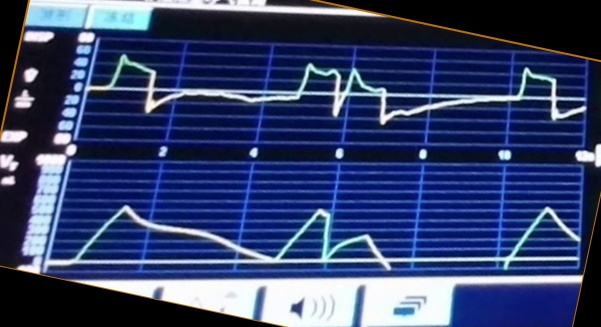Double_Triggering Flow: (96, 53, 564, 131)
Double_Triggering Volume: (71, 190, 402, 272)
